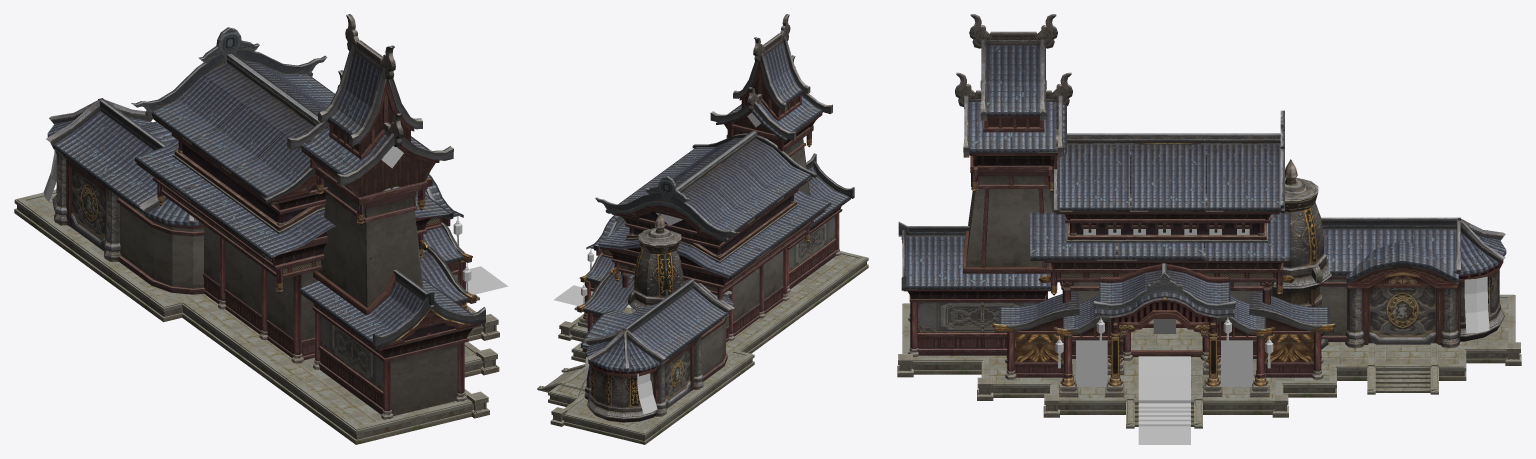
File: build_01_02.FBX
3 views of the same model, side by side, from view 1: azimuth 30°, elevation 25°; view 2: azimuth 150°, elevation 25°; view 3: azimuth 270°, elevation 25° (orthographic). The views are drawn at different scales.
Parts seen in each view (by area): view 1: segment_38, segment_40, segment_39; view 2: segment_38, segment_40, segment_39; view 3: segment_38, segment_40, segment_39.
Boxes of the visible parts, x1,y1,x2,y2 form: segment_38: (46,14,485,419); segment_40: (14,189,499,444); segment_39: (43,146,508,294); segment_38: (576,14,854,422); segment_40: (537,251,868,444); segment_39: (554,112,760,414); segment_38: (898,14,1506,397); segment_40: (897,294,1521,428); segment_39: (1055,229,1489,444).
Size of the model in its own units: 609 by 686 by 1154.
